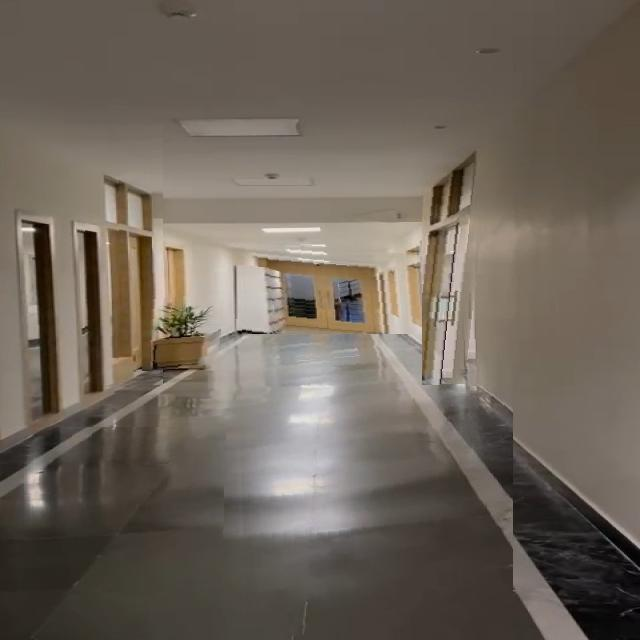door: (0, 125, 163, 390), (238, 239, 424, 334), (422, 163, 488, 386)
floor: (236, 319, 514, 640), (24, 427, 226, 640)
furniture: (142, 294, 225, 372)
